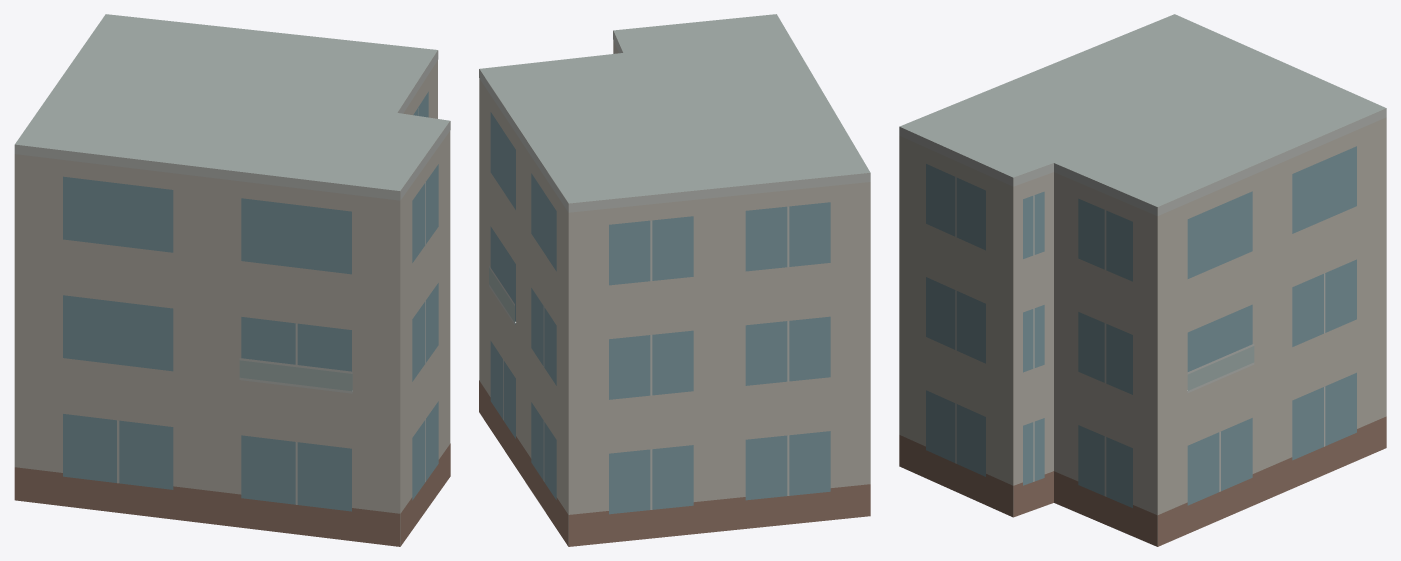
File: survey-upis-33005982.glb
The picture shows the model from 3 angles, left to right: view 1: azimuth 30°, elevation 25°; view 2: azimuth 150°, elevation 25°; view 3: azimuth 270°, elevation 25°; orthographic projection. The views are drawn at different scales.
Parts seen in each view (by area): view 1: survey-upis-33005982.tmp; view 2: survey-upis-33005982.tmp; view 3: survey-upis-33005982.tmp.
Part boxes in pixels (x1,y1,x2,y2): survey-upis-33005982.tmp: (14, 14, 450, 546); survey-upis-33005982.tmp: (479, 14, 870, 546); survey-upis-33005982.tmp: (899, 14, 1386, 546).
Bounding box in the file's own units: 11.17 × 9.15 × 11.9.
